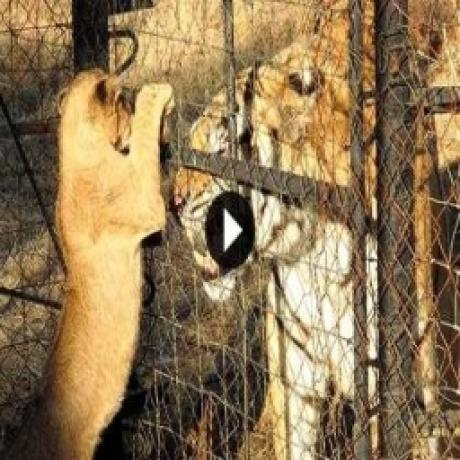Lion: (10, 59, 176, 455)
